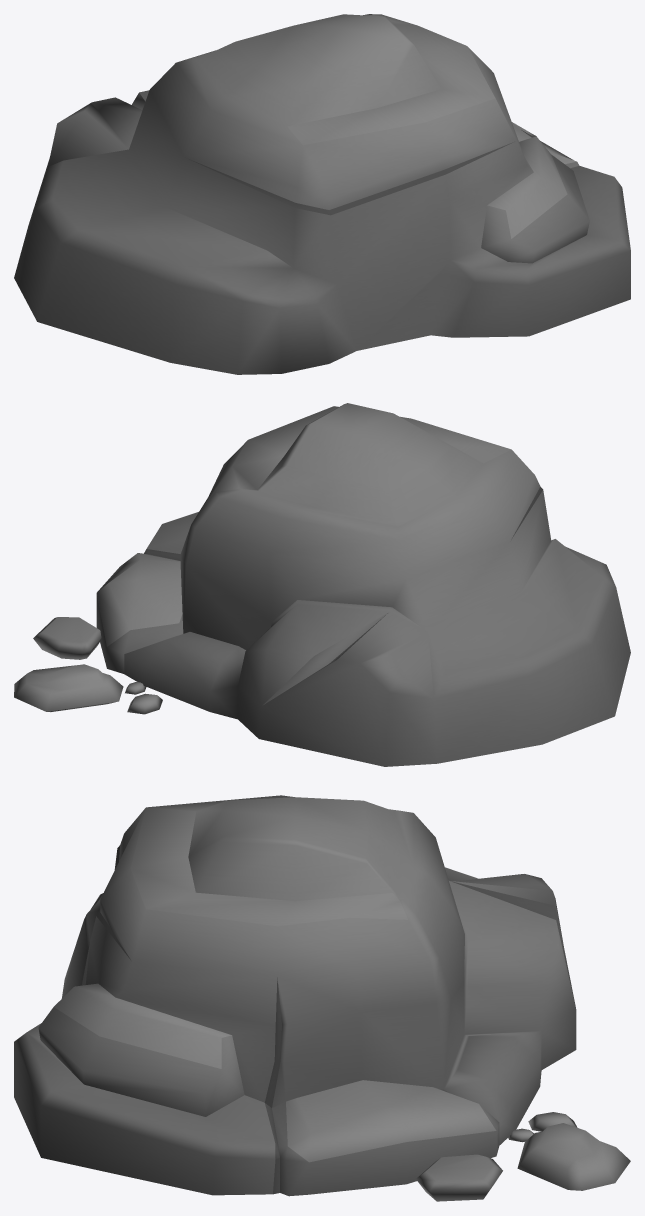
The model's file is Rock_01.fbx.
3 views of the same model, one above another, from view 1: azimuth 30°, elevation 25°; view 2: azimuth 150°, elevation 25°; view 3: azimuth 270°, elevation 25° (orthographic). The views are drawn at different scales.
Parts seen in each view (by area): view 1: rock; view 2: rock; view 3: rock.
Part boxes in pixels (x1,y1,x2,y2): rock: (14,14,630,374); rock: (14,403,630,766); rock: (14,795,630,1201).
Bounding box in the file's own units: 24.41 × 9.99 × 21.73.
Materials: 1 (1 with a texture image).
